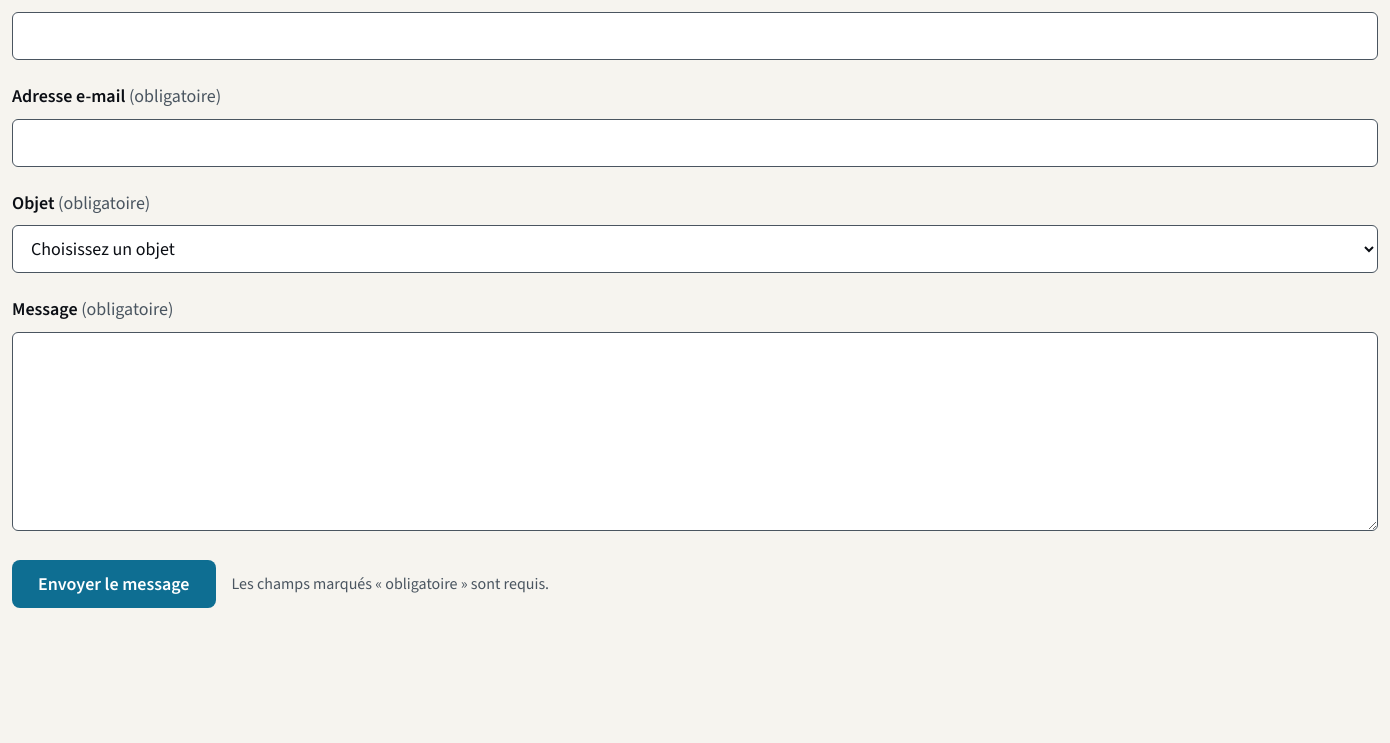
Test: ContactForm › should reject a message shorter than ten characters
Type "court" into the text box labelled "Message (obligatoire)". click: coordinates (695, 432)
box: [12,332,1378,531]
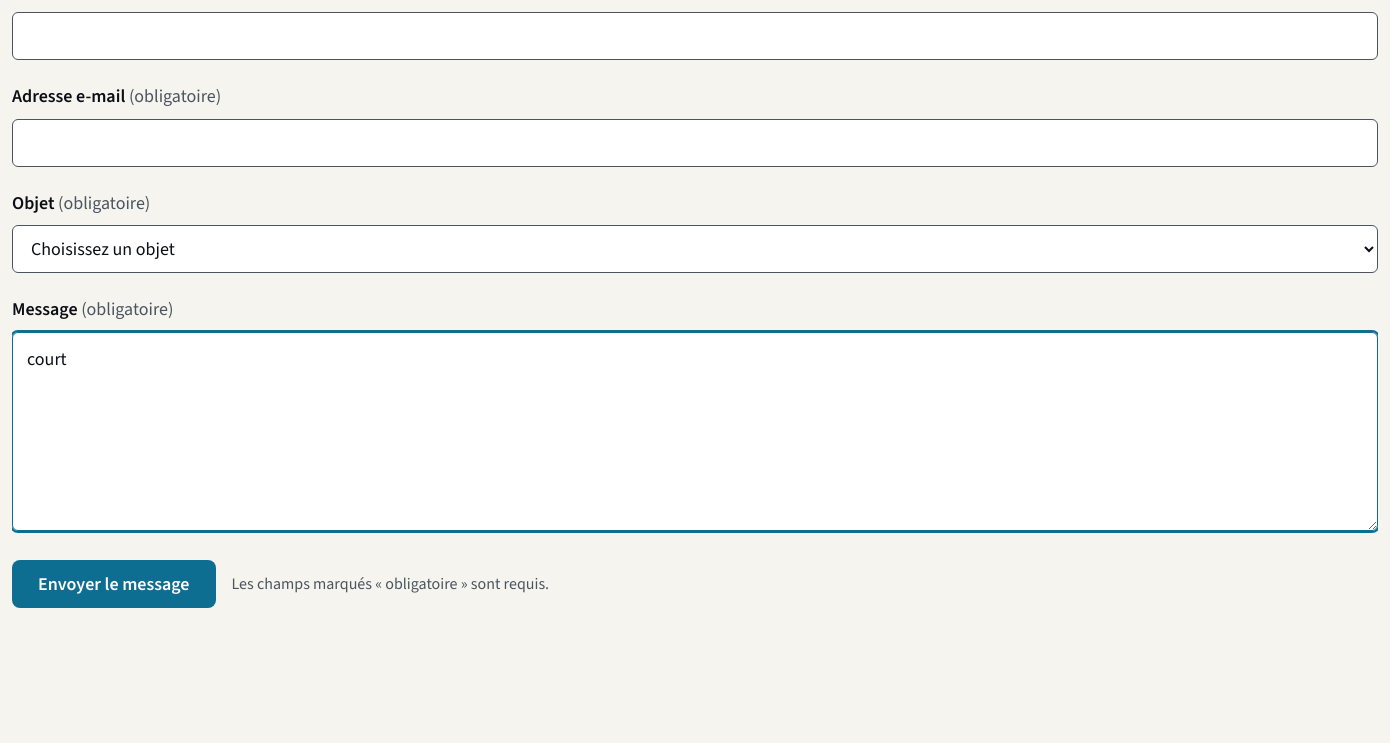
Click the button "Envoyer le message". click: coordinates (114, 584)
box: [12,560,216,608]
(page scrolled)
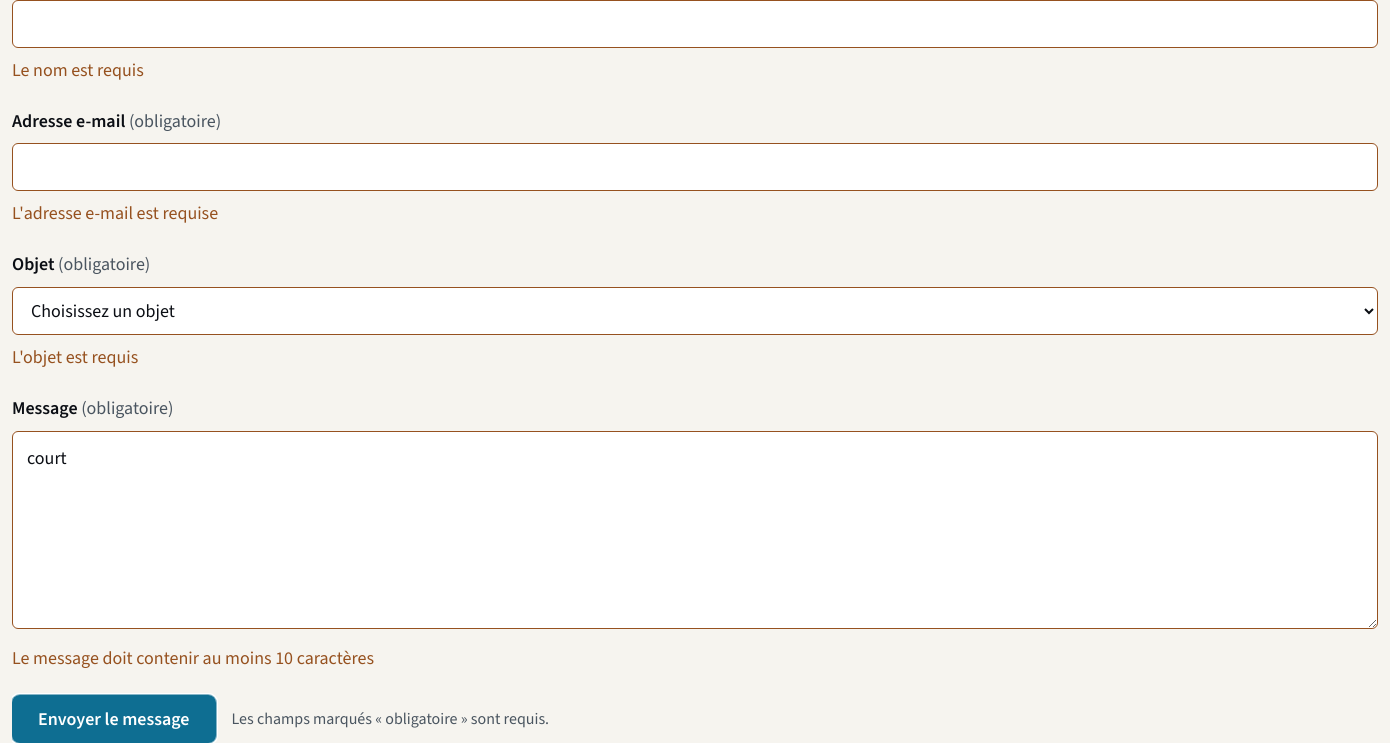
Expected: the text "Le message doit contenir au moins 10 caractères" is shown, [12,646,374,670]
